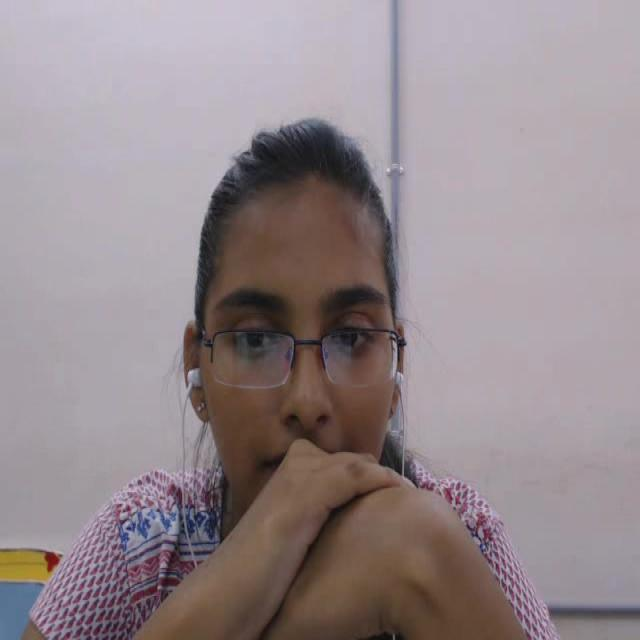Bored: (178, 88, 416, 549)
